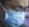with_mask: (1, 1, 29, 27)
